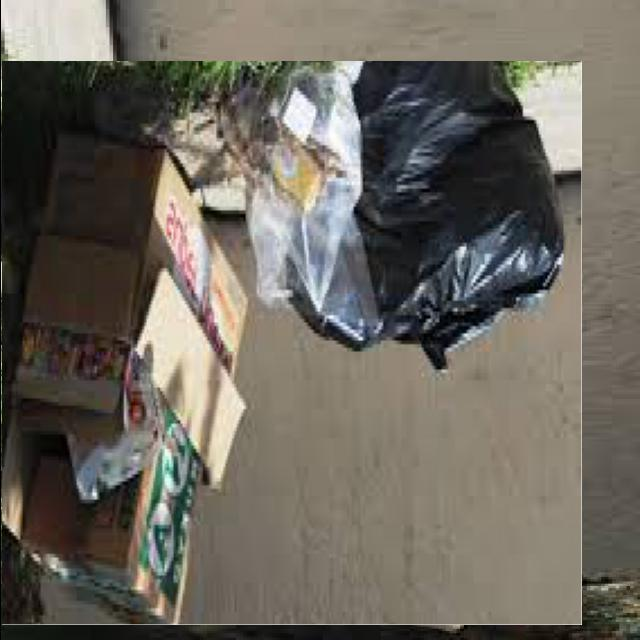Trashbag: (368, 65, 570, 379)
